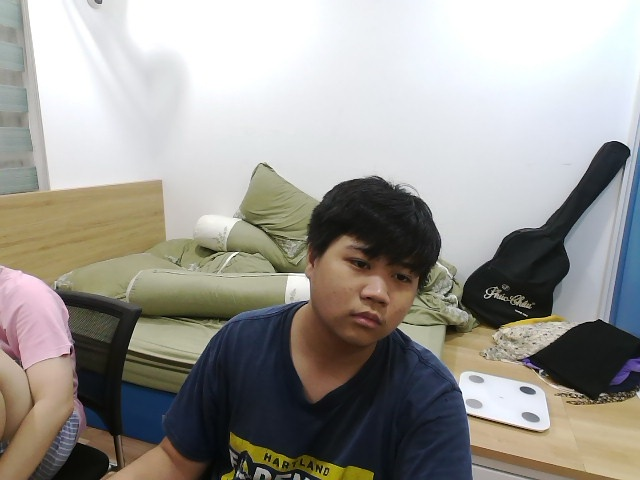face: (309, 178, 443, 345)
